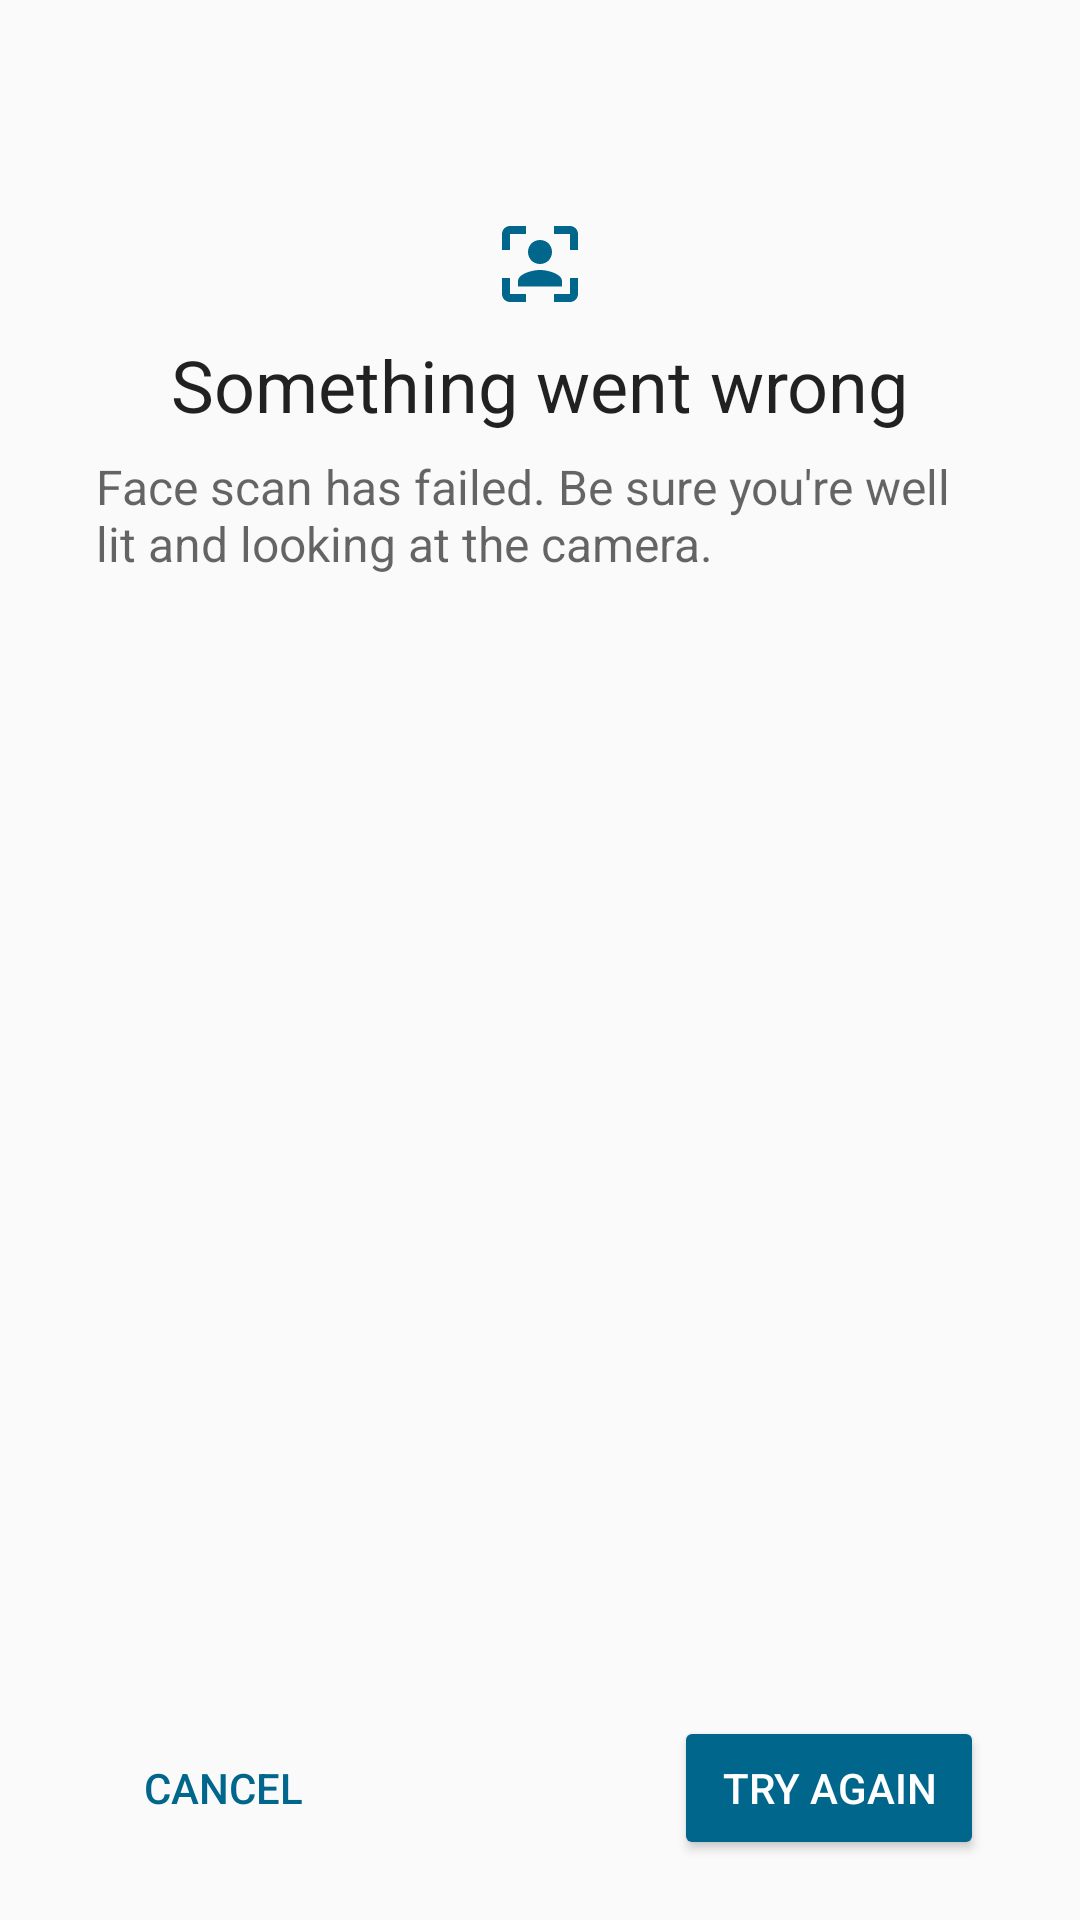

Locate icon controls on the screen. Image size 1080 × 1920, boxes as {"x1": x1, "y1": y1, "x2": x2, "y2": y2}.
face auth: {"x1": 502, "y1": 226, "x2": 578, "y2": 302}
